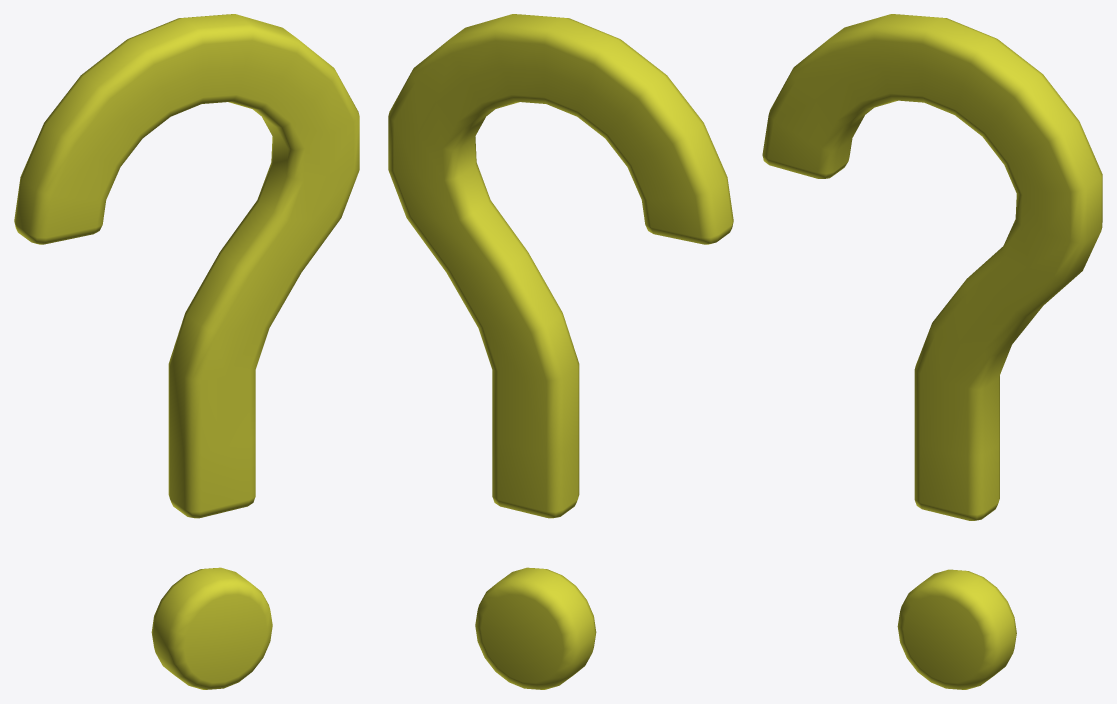
Rendered from QuestionMark.fbx.
The picture shows the model from 3 angles, left to right: view 1: azimuth 30°, elevation 25°; view 2: azimuth 150°, elevation 25°; view 3: azimuth 330°, elevation 25°; orthographic projection.
Parts seen in each view (by area): view 1: pCylinder4; view 2: pCylinder4; view 3: pCylinder4.
Boxes of the visible parts, box(x1,y1,x2,y2) form: pCylinder4: box(14, 14, 359, 689); pCylinder4: box(388, 14, 733, 689); pCylinder4: box(762, 14, 1102, 689).
Bounding box in the file's own units: 15.52 × 30.02 × 2.19.
